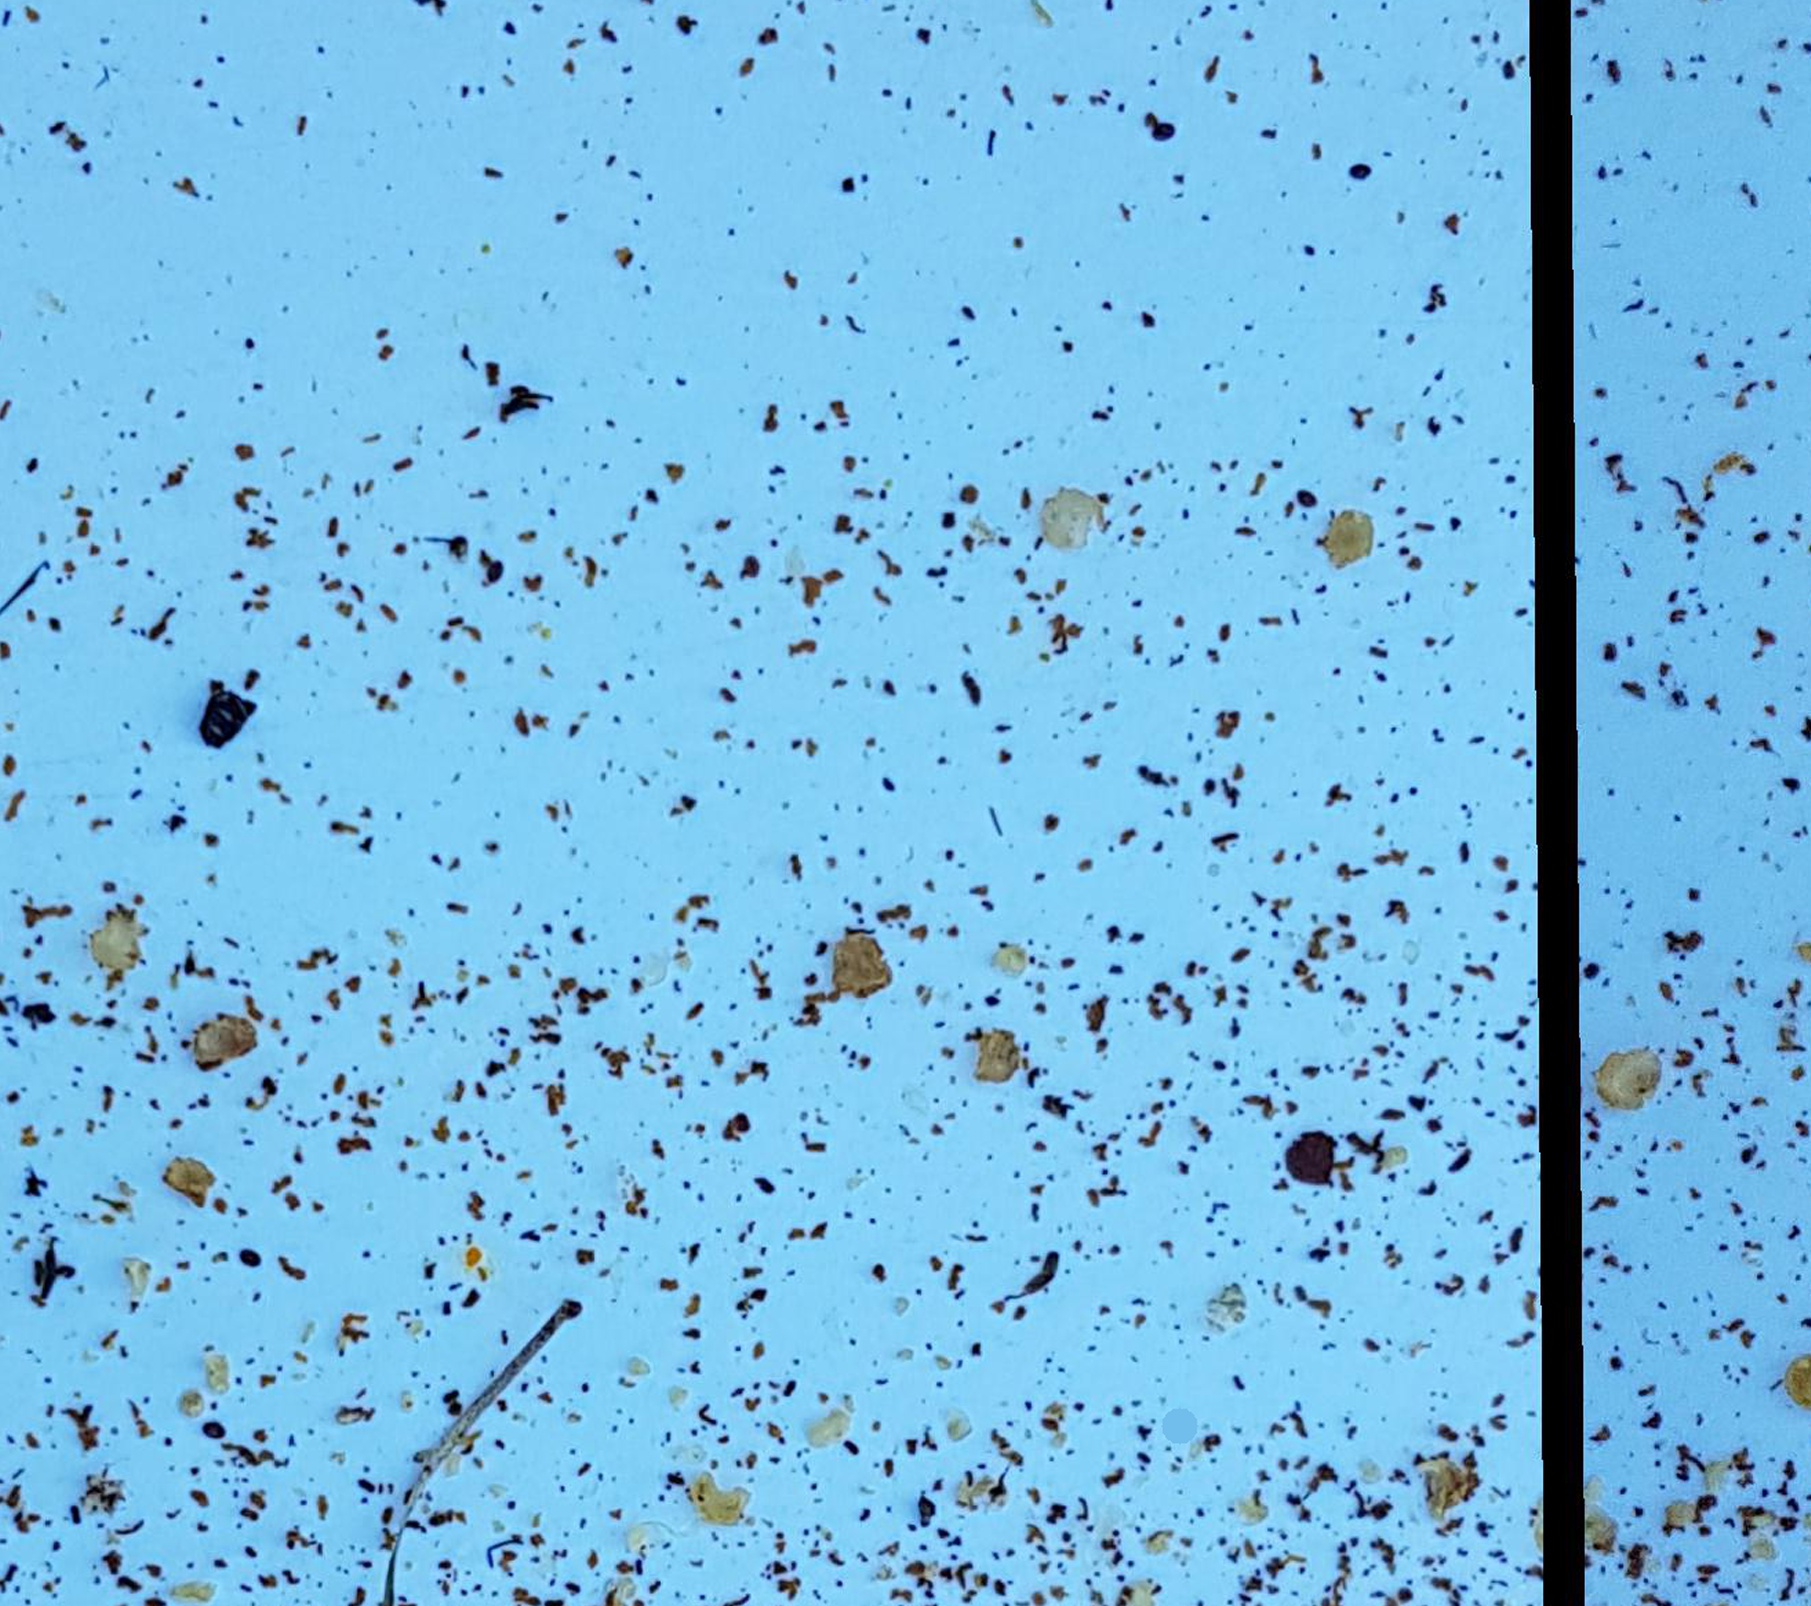Varroa: (729, 546, 771, 588), (1340, 149, 1375, 188), (1295, 488, 1323, 519), (236, 1242, 264, 1270), (1150, 115, 1175, 146), (481, 557, 507, 583), (208, 1423, 223, 1443)
